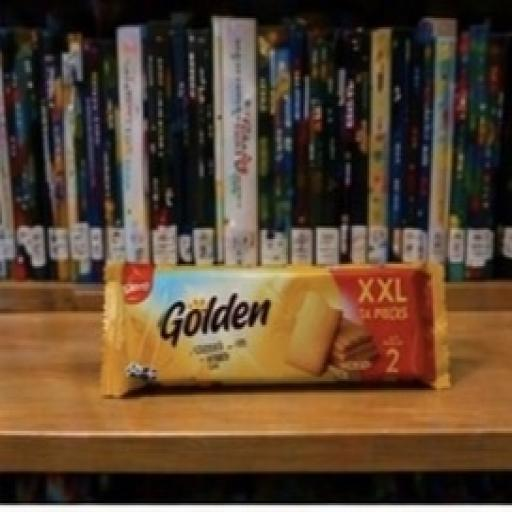golden: (74, 212, 474, 448)
